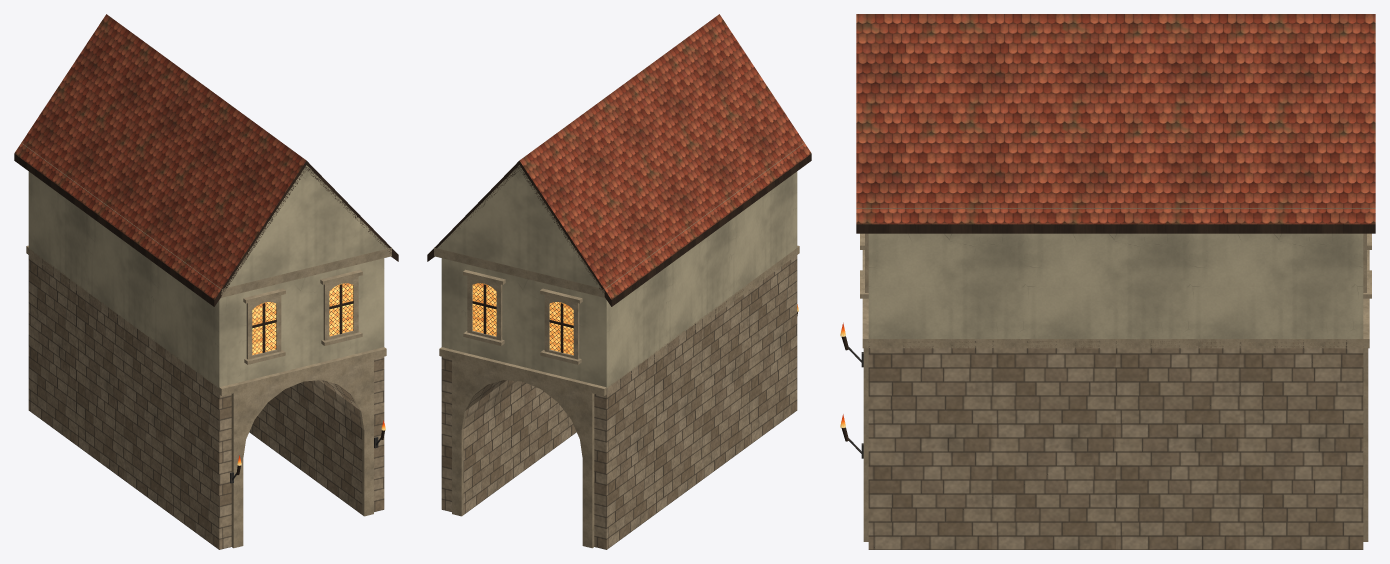
The model's file is arch_passage.gltf.
3 views of the same model, side by side, from view 1: azimuth 30°, elevation 25°; view 2: azimuth 150°, elevation 25°; view 3: azimuth 270°, elevation 25° (orthographic). The views are drawn at different scales.
Parts seen in each view (by area): view 1: arch_passage_mesh; view 2: arch_passage_mesh; view 3: arch_passage_mesh.
Part boxes in pixels (box(x1,y1,x2,y2)): arch_passage_mesh: box(14, 14, 398, 549); arch_passage_mesh: box(427, 14, 811, 549); arch_passage_mesh: box(856, 14, 1375, 549).
Size of what is drawn, in the model's own units: 6.7 by 12.95 by 12.99.
Materials: 8 (8 with a texture image).
